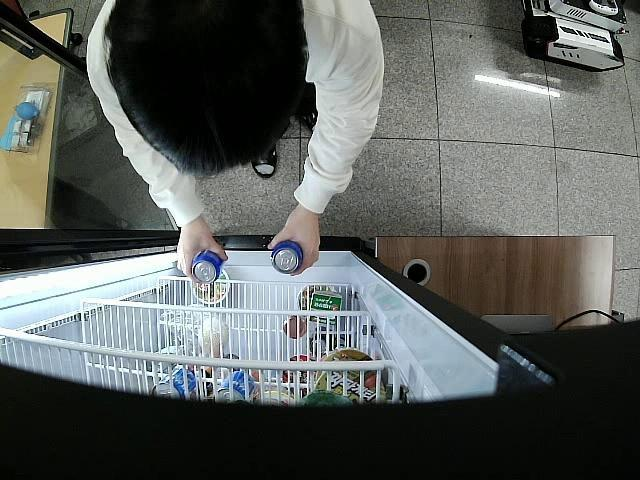13_pocariSweat: (271, 237, 305, 274), (190, 248, 222, 285)
